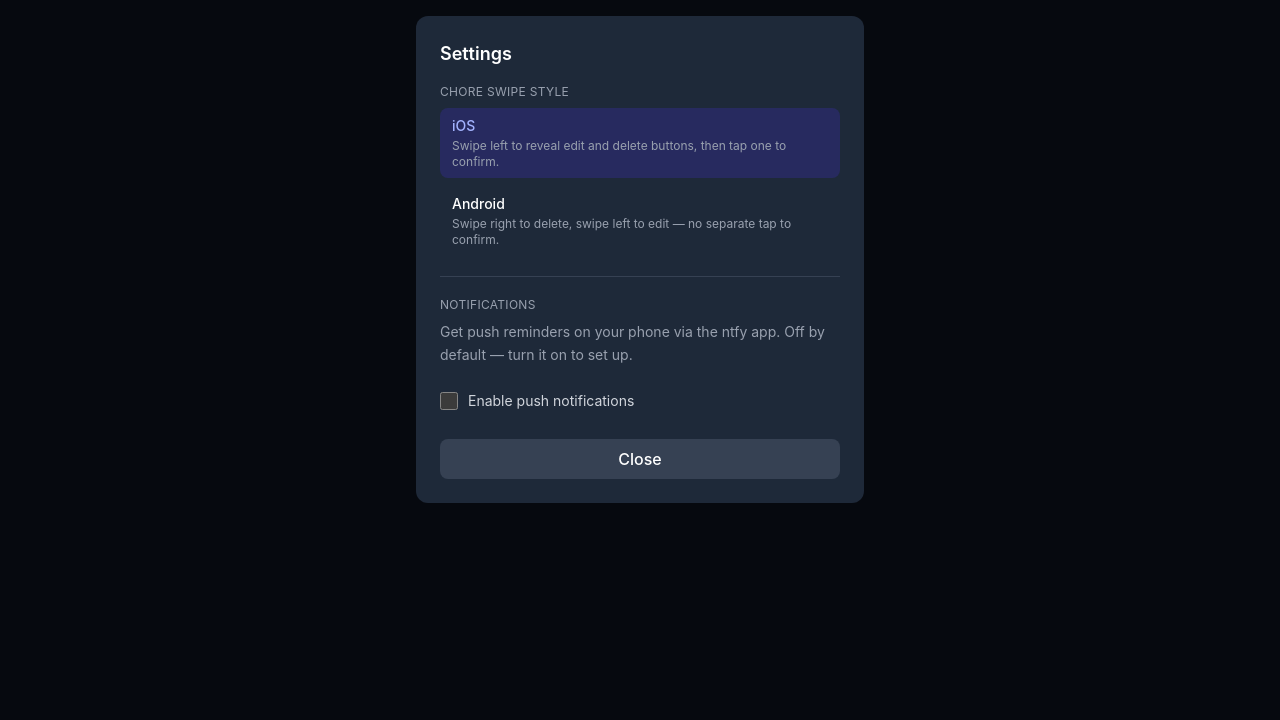
Test: SettingsModal — swipe style › shows an error and leaves the selection unchanged when the request fails
Click the button "Android" at (640, 221), box top-left (440, 186), bottom-right (840, 256)
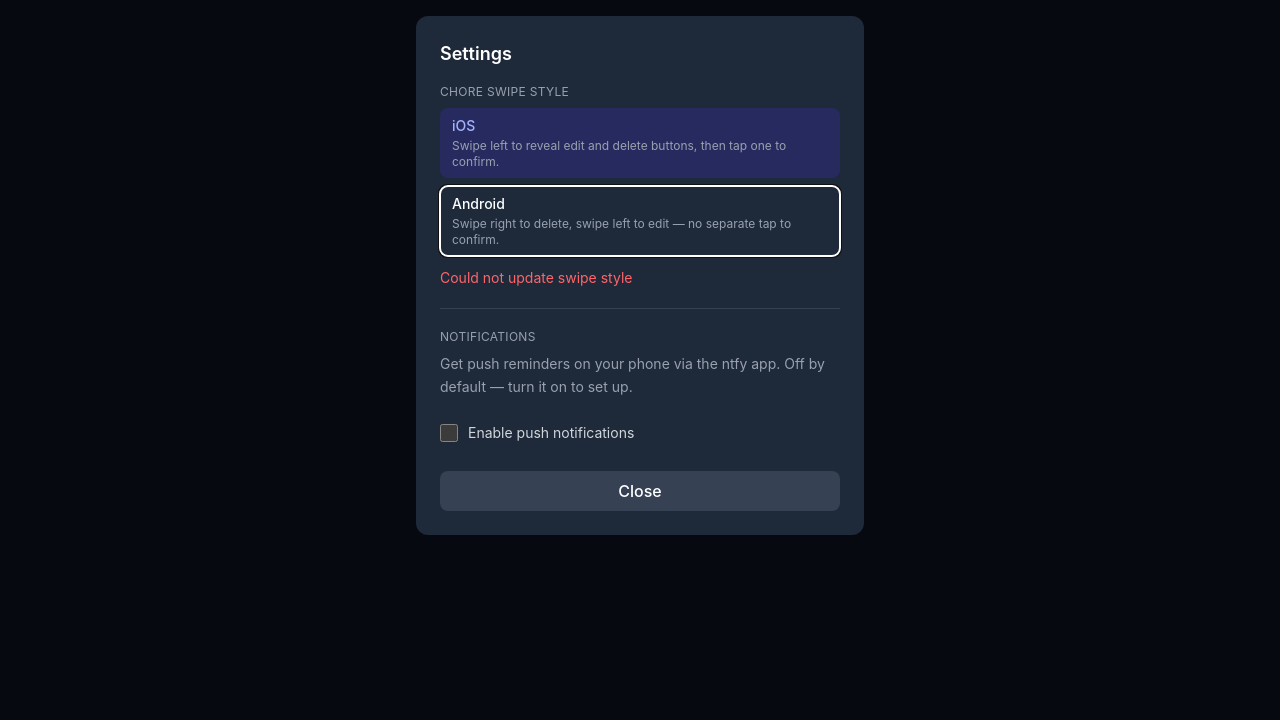
Check: the text "Could not update swipe style" is shown, box top-left (440, 269), bottom-right (632, 286)
